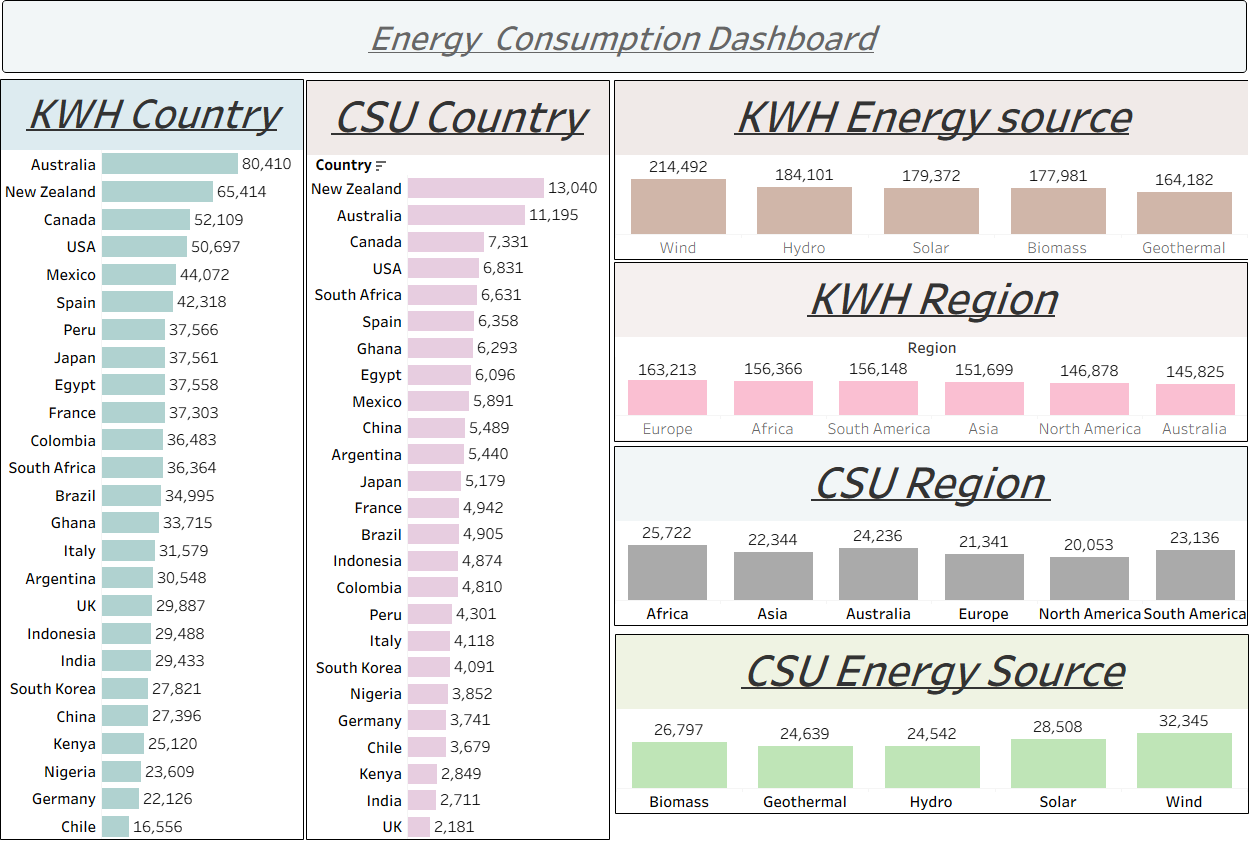

The dashboard page shown, as its layout file describes it:
{"tool":"tableau","page":{"name":"Tableau dashboard","canvas":[1000,1000],"units":"permille","ordinal":0},"visuals":[{"type":"text","box":[4.2,3.5,990.3,85.8]},{"type":"worksheet","title":"KWH Country","mark":"Automatic","rows":["COUNTRY"],"cols":["MONTHLY_USAGE_KWH"],"box":[2.4,96.4,242,895.4]},{"type":"worksheet","title":"CSU Country","mark":"Automatic","rows":["COUNTRY"],"cols":["COST_SAVINGS_USD"],"box":[245.6,97.5,242,894.2]},{"type":"worksheet","title":"KWH Energy source","mark":"Automatic","rows":["MONTHLY_USAGE_KWH"],"cols":["ENERGY_SOURCE"],"box":[490.7,97.5,505.7,211.5]},{"type":"worksheet","title":"KWH Region","mark":"Automatic","rows":["MONTHLY_USAGE_KWH"],"cols":["REGION"],"box":[490.7,311.4,505.1,211.5]},{"type":"worksheet","title":"CSU Region ","mark":"Automatic","rows":["COST_SAVINGS_USD"],"cols":["REGION"],"box":[490.7,527.6,505.1,211.5]},{"type":"worksheet","title":"CSU Energy Source","mark":"Automatic","rows":["COST_SAVINGS_USD"],"cols":["ENERGY_SOURCE"],"box":[491.9,748.5,505.1,211.5]}]}

Visuals, with their boxes on the dashboard's canvas, which has no fixed pixel size, in thousandths of its width and height (x1, y1, x2, y2). These are canvas units, not pixel positions in the 1252x842 screenshot, which may show the page scaled, cropped or inside an application window:
text: box(4, 4, 994, 89)
"KWH Country" worksheet: box(2, 96, 244, 992)
"CSU Country" worksheet: box(246, 98, 488, 992)
"KWH Energy source" worksheet: box(491, 98, 996, 309)
"KWH Region" worksheet: box(491, 311, 996, 523)
"CSU Region " worksheet: box(491, 528, 996, 739)
"CSU Energy Source" worksheet: box(492, 748, 997, 960)
